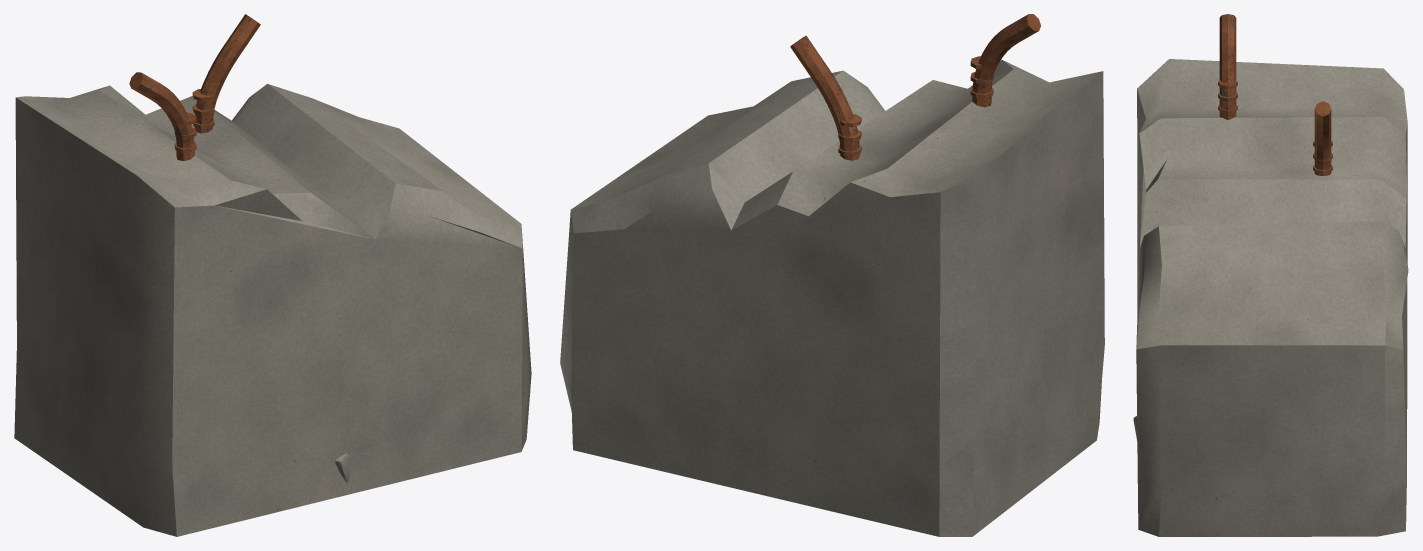
Rendered from broken_concrete_medium.glb.
3 views of the same model, side by side, from view 1: azimuth 30°, elevation 25°; view 2: azimuth 150°, elevation 25°; view 3: azimuth 270°, elevation 25° (orthographic). The views are drawn at different scales.
Visible parts, largest first — view 1: BrokenConcreteMediumBody; view 2: BrokenConcreteMediumBody; view 3: BrokenConcreteMediumBody.
Part boxes in pixels (bbox=[...]): BrokenConcreteMediumBody: bbox=[14, 14, 531, 536]; BrokenConcreteMediumBody: bbox=[560, 14, 1104, 536]; BrokenConcreteMediumBody: bbox=[1133, 14, 1408, 536].
Bounding box in the file's own units: 0.7212 × 0.7368 × 0.4916.
2 materials, 2 textured.
